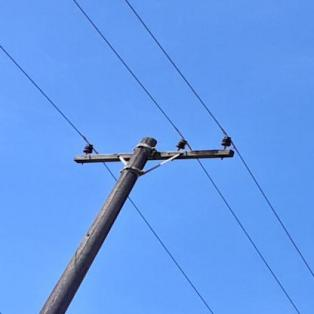Poste: (37, 135, 162, 314)
